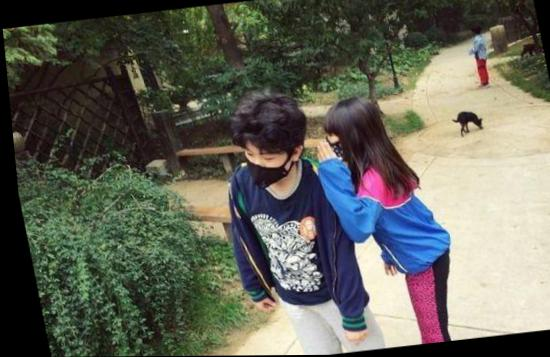WRONG: (238, 137, 298, 188)
